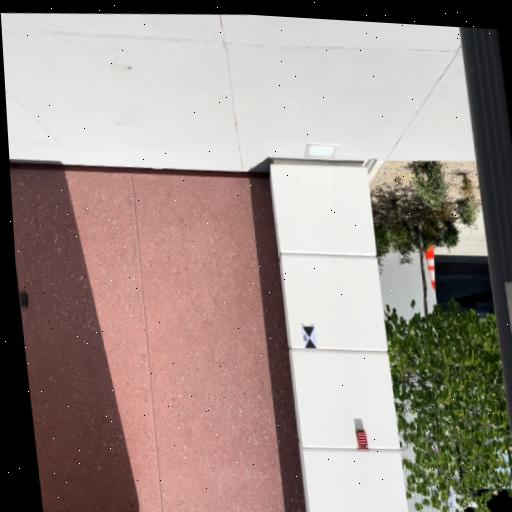target9: (301, 325, 318, 351)
